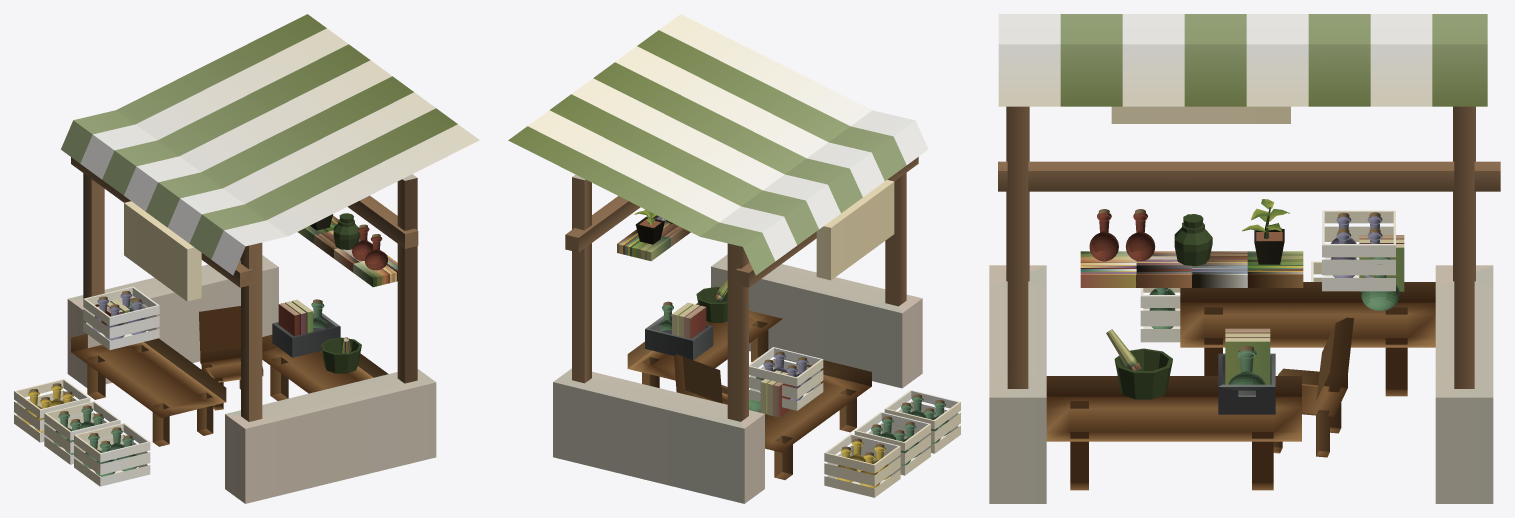
Rendered from stall_b.glb.
3 renders of one model, left to right at view 1: azimuth 30°, elevation 25°; view 2: azimuth 150°, elevation 25°; view 3: azimuth 270°, elevation 25°, orthographic. The views are drawn at different scales.
Visible parts, largest first — view 1: Cube015; view 2: Cube015; view 3: Cube015.
Boxes of the visible parts, x1,y1,x2,y2 form: Cube015: (14, 14, 479, 503); Cube015: (508, 14, 960, 503); Cube015: (989, 14, 1500, 503).
Size of the model in its own units: 2.3 by 2.02 by 2.18.
1 material, 1 textured.
